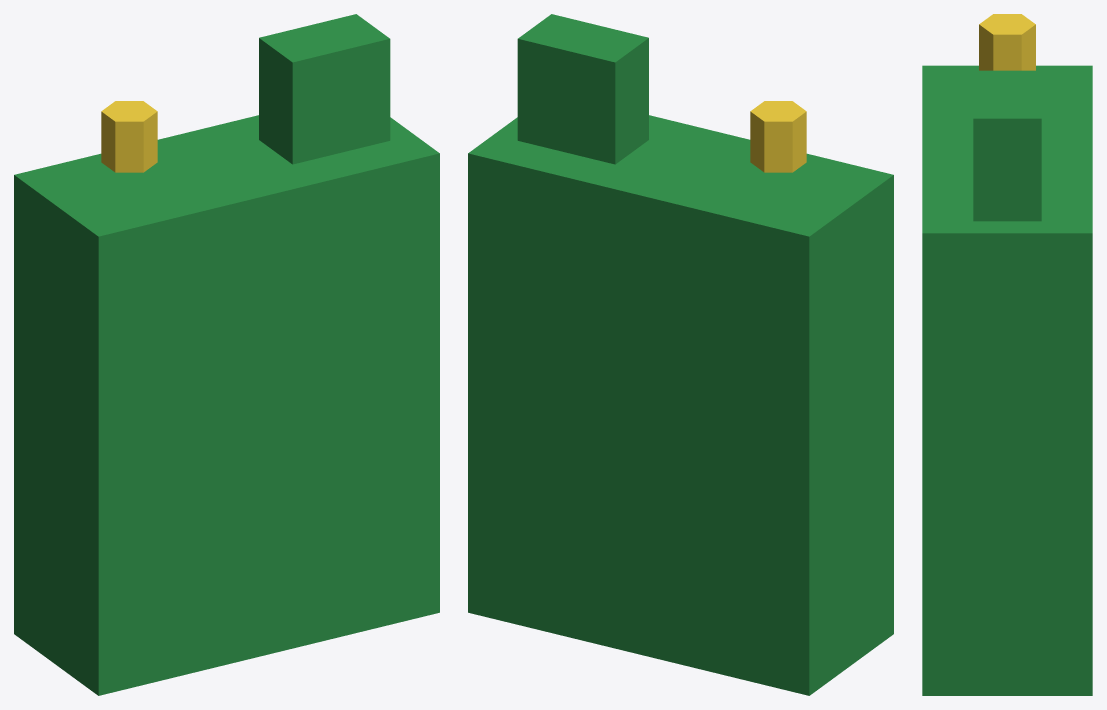
The model's file is garage_jerry_can.glb.
The picture shows the model from 3 angles, left to right: view 1: azimuth 30°, elevation 25°; view 2: azimuth 150°, elevation 25°; view 3: azimuth 270°, elevation 25°; orthographic projection.
Parts seen in each view (by area): view 1: jerry_can; view 2: jerry_can; view 3: jerry_can.
Boxes of the visible parts, x1,y1,x2,y2 form: jerry_can: (14,14,439,695); jerry_can: (468,14,893,695); jerry_can: (922,14,1092,695).
Size of the model in its own units: 0.35 by 0.55 by 0.15.
